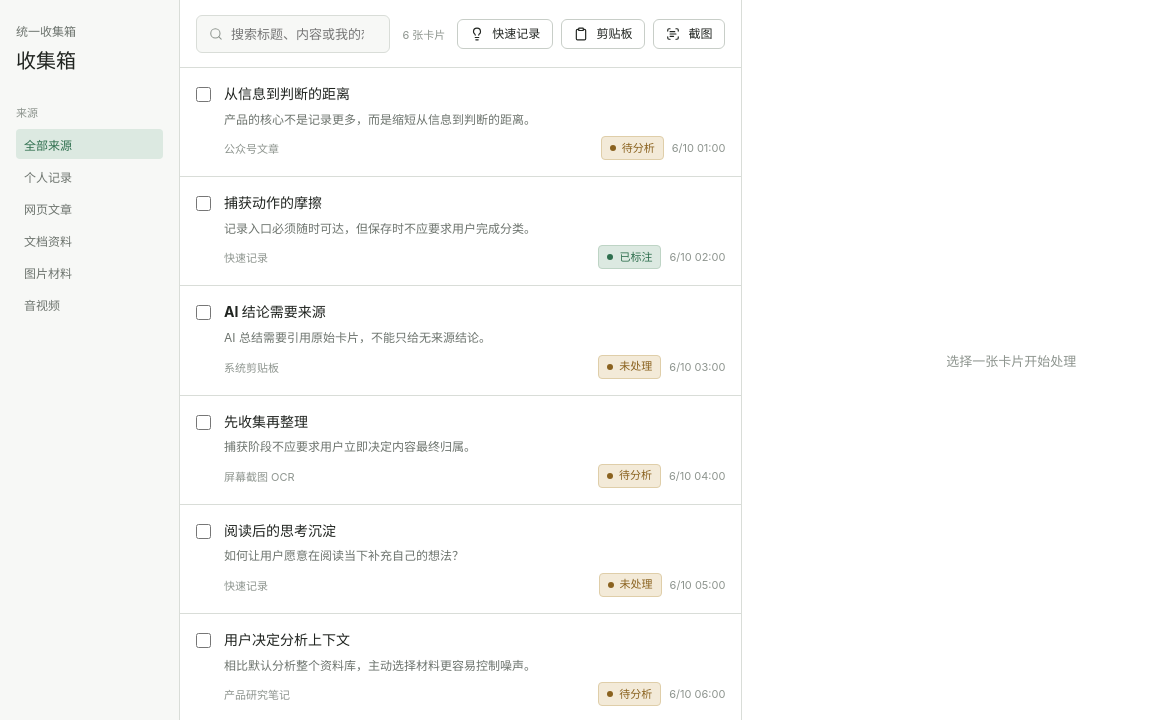
InboxPage › shows a generic error instead of the limit error when analysis creation fails for another reason
Click the checkbox named "选择「从信息到判断的距离」": [204, 94] box left=196, top=87, right=211, bottom=102
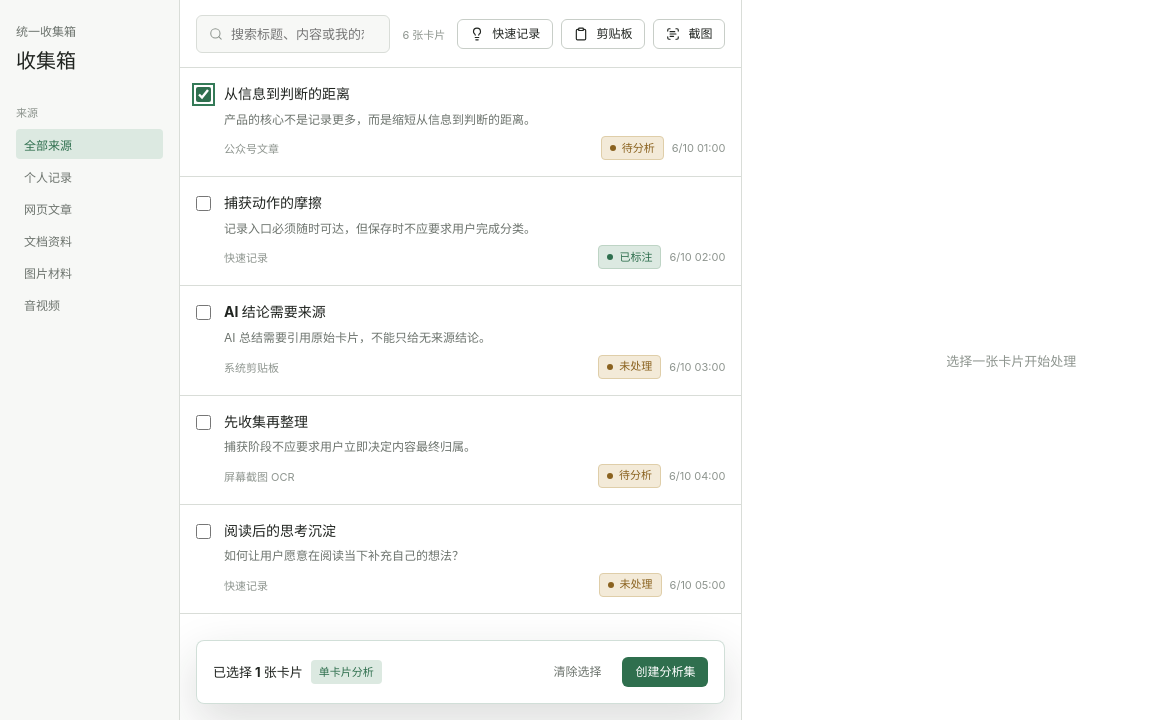
Click the button "创建分析集": [665, 672] box left=622, top=657, right=708, bottom=687
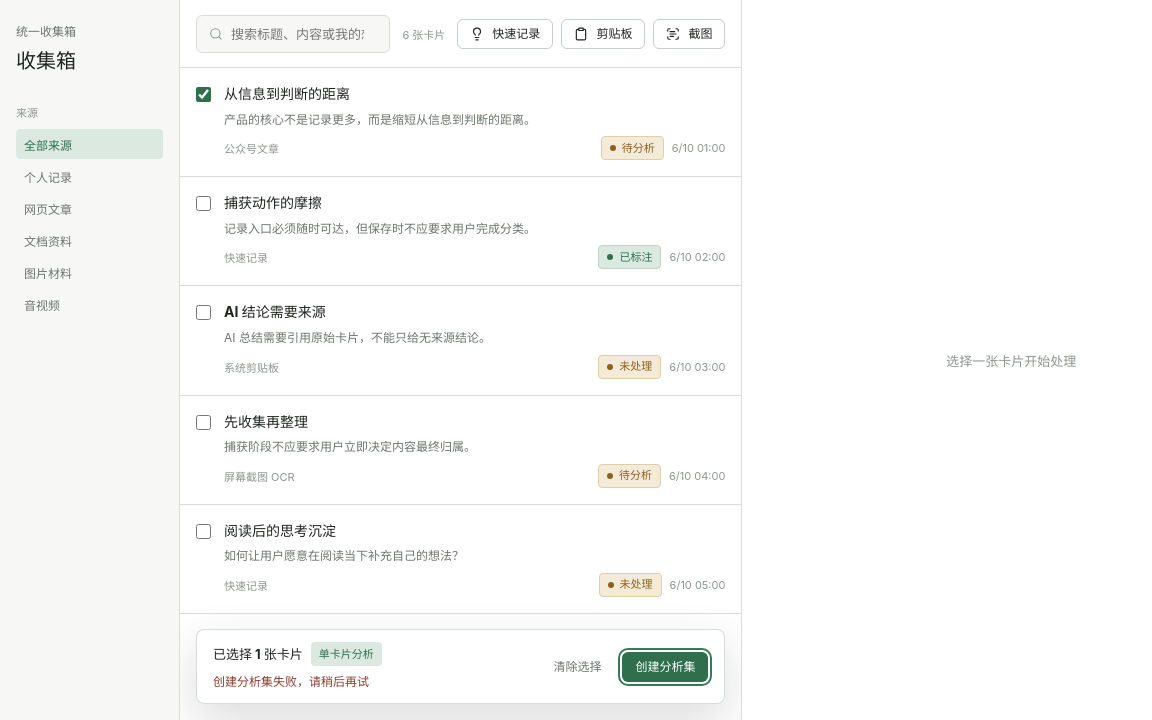
expect the text "创建分析集失败，请稍后再试" is shown: met, box left=213, top=674, right=369, bottom=691
